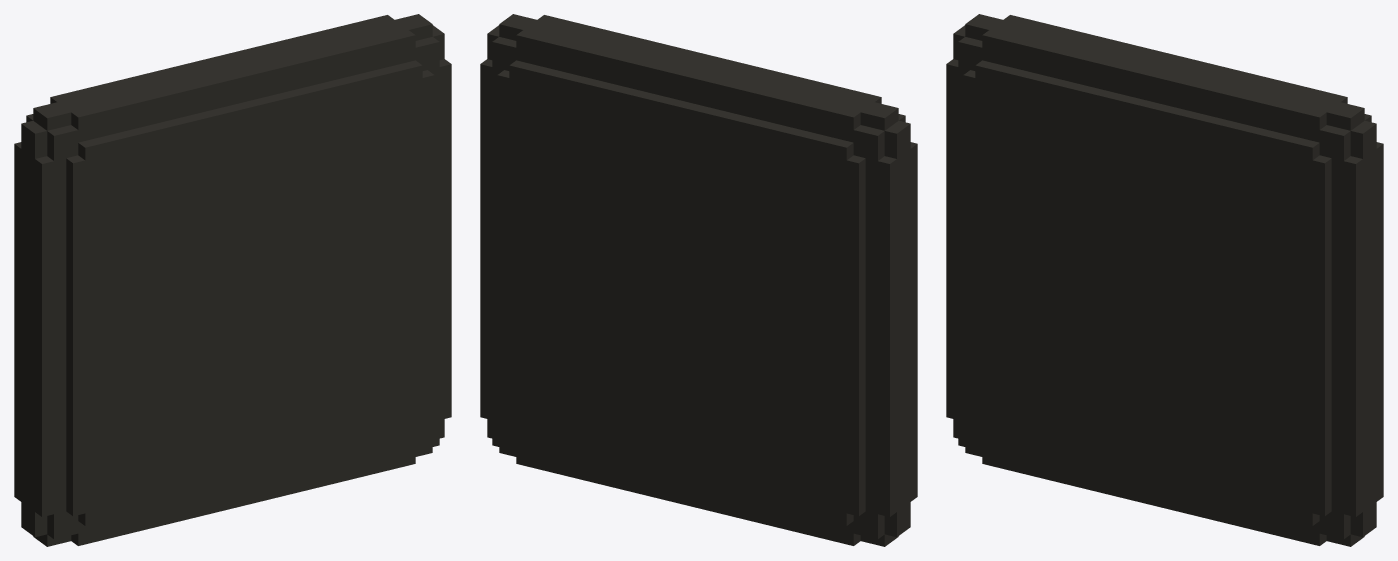
File: factory4.3-23.obj
3 renders of one model, left to right at view 1: azimuth 30°, elevation 25°; view 2: azimuth 150°, elevation 25°; view 3: azimuth 330°, elevation 25°, orthographic.
Size of the model in its own units: 3.4 by 3.4 by 0.6.
Materials: 1 (1 with a texture image).
